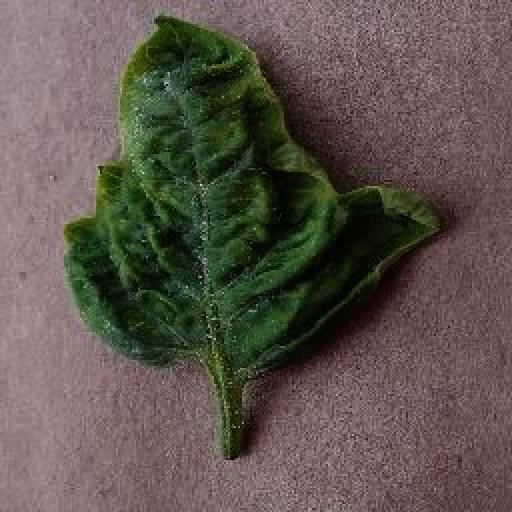disease_tomato: (60, 10, 444, 388)
